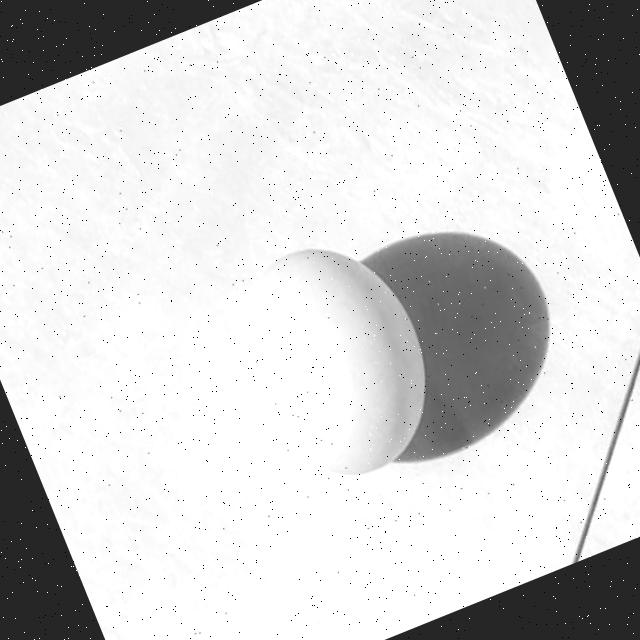ping-pong-ball: (218, 230, 457, 499)
